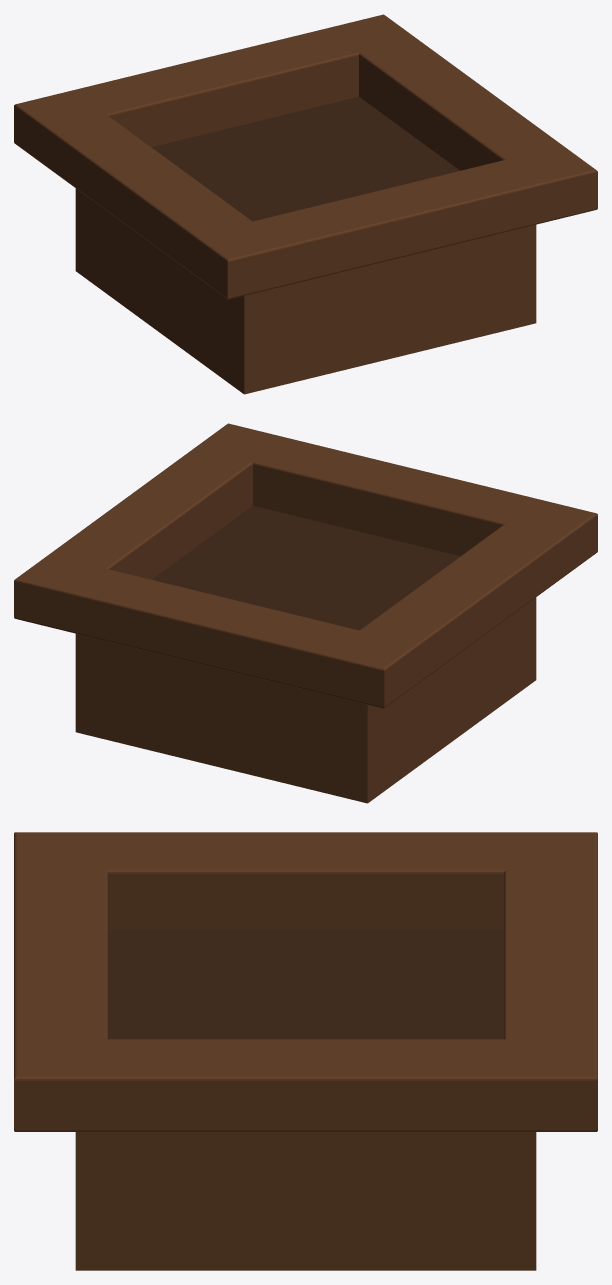
File: Mesa1.fbx
3 renders of one model, top to bottom at view 1: azimuth 30°, elevation 25°; view 2: azimuth 150°, elevation 25°; view 3: azimuth 270°, elevation 25°, orthographic. The views are drawn at different scales.
Parts seen in each view (by area): view 1: Cube.004; view 2: Cube.004; view 3: Cube.004.
Part boxes in pixels (left/top/right/bottom): Cube.004: left=14, top=14, right=597, bottom=394; Cube.004: left=14, top=423, right=597, bottom=803; Cube.004: left=14, top=832, right=597, bottom=1270.
Size of the model in its own units: 200 by 82.71 by 200.
